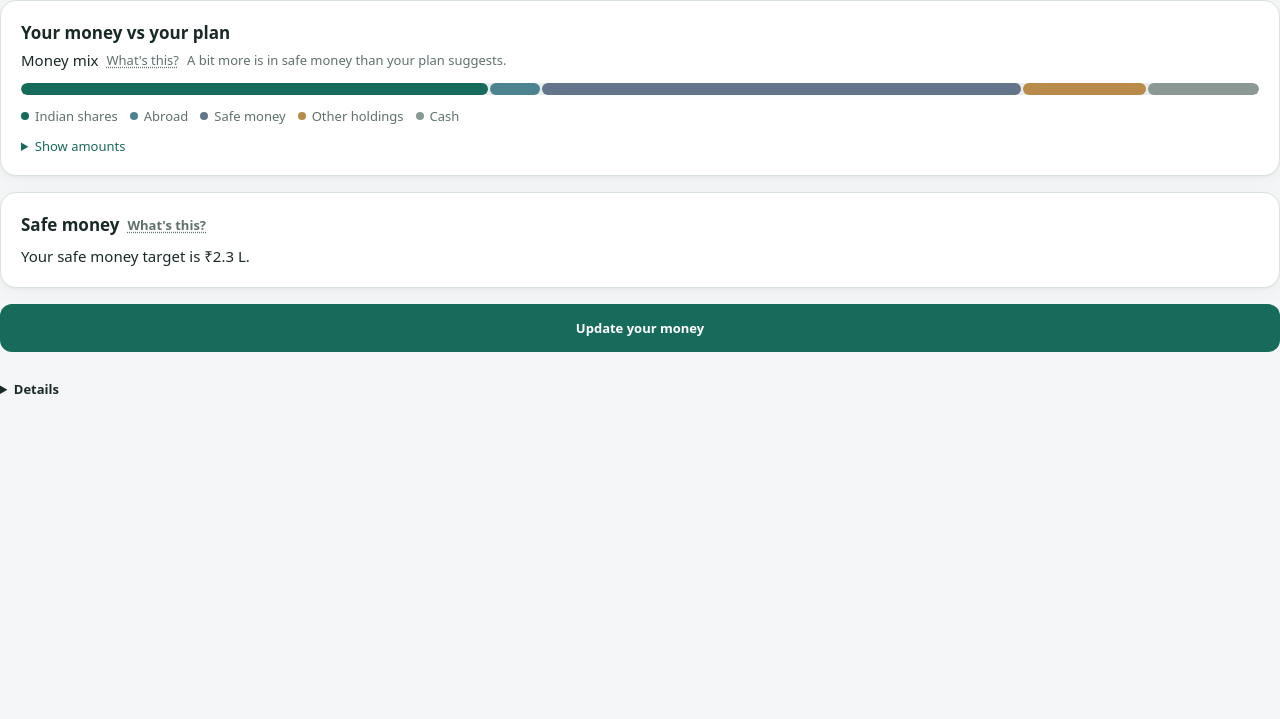
Test: Plan page › keeps loan totals and the recommendation inside collapsed details
Check: the heading "Your money vs your plan" is shown, box [21, 21, 230, 44]
Click the heading "Details" at point(36, 389), box [14, 380, 59, 398]
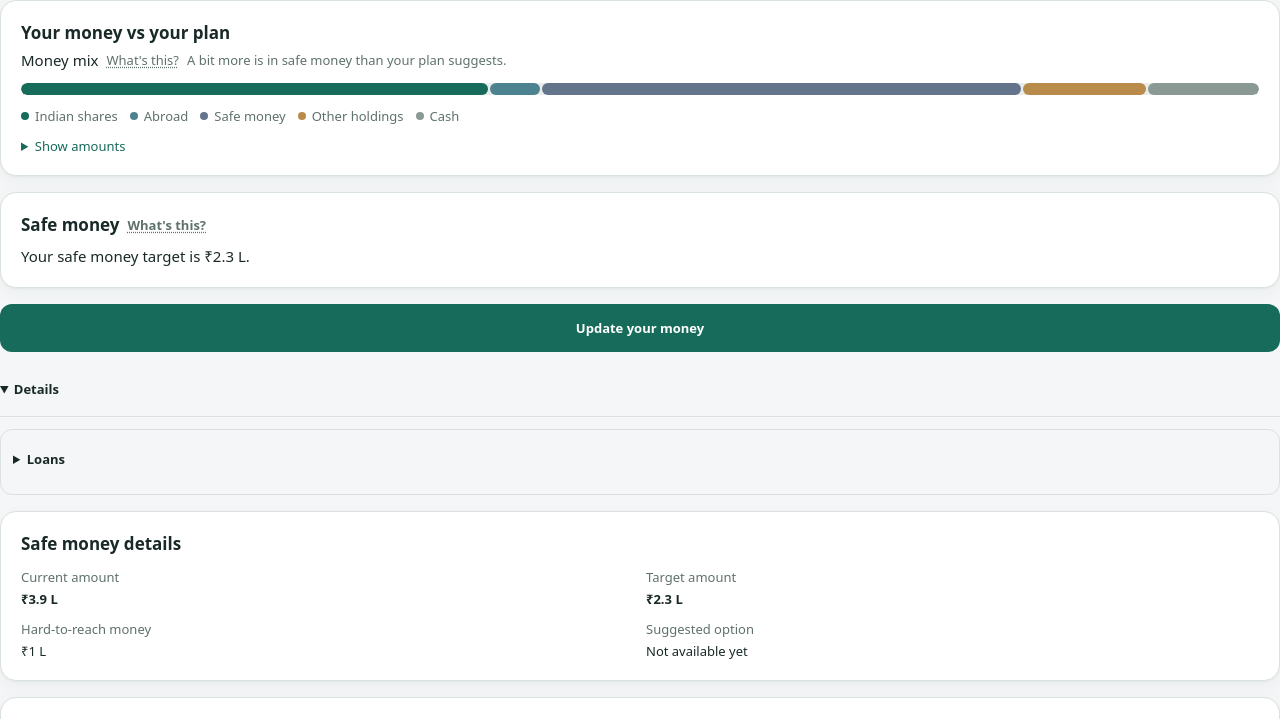
Click the heading "Loans" at point(46, 459), box [27, 450, 65, 468]
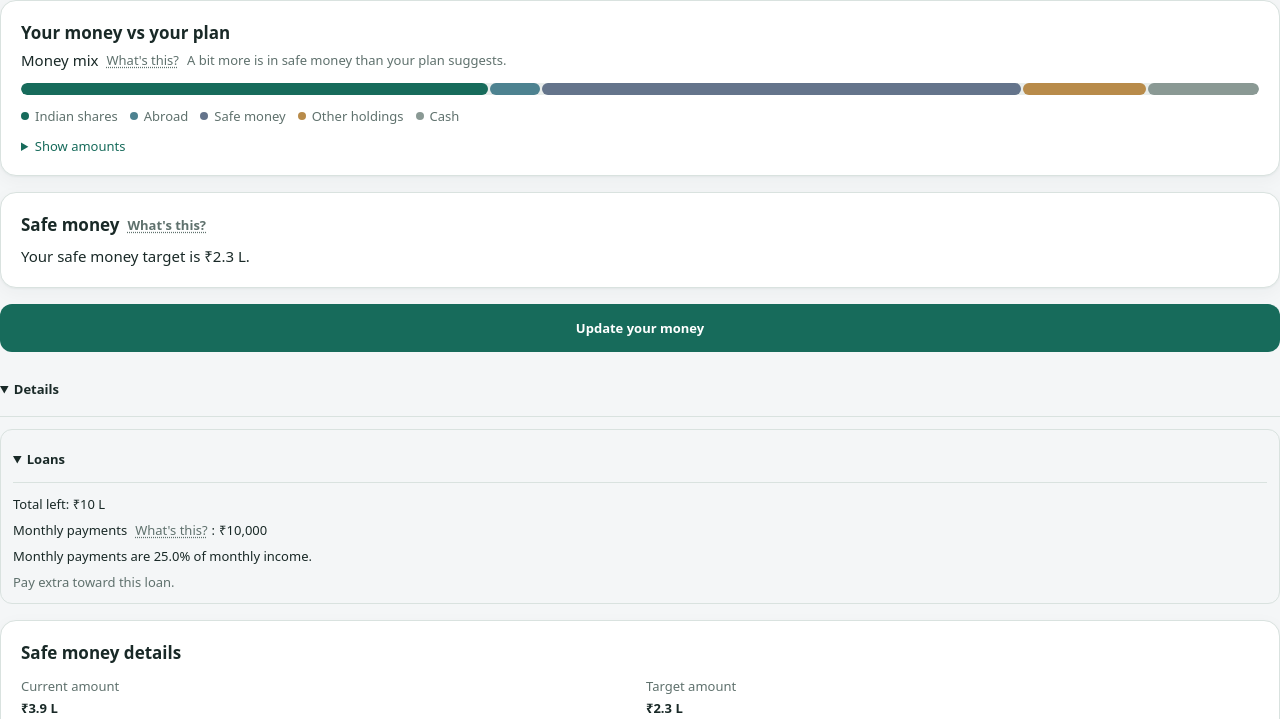
Check: the text "Total left:" is shown, box [13, 495, 73, 513]
Check: the text "Pay extra toward this loan." is shown, box [13, 573, 175, 591]
